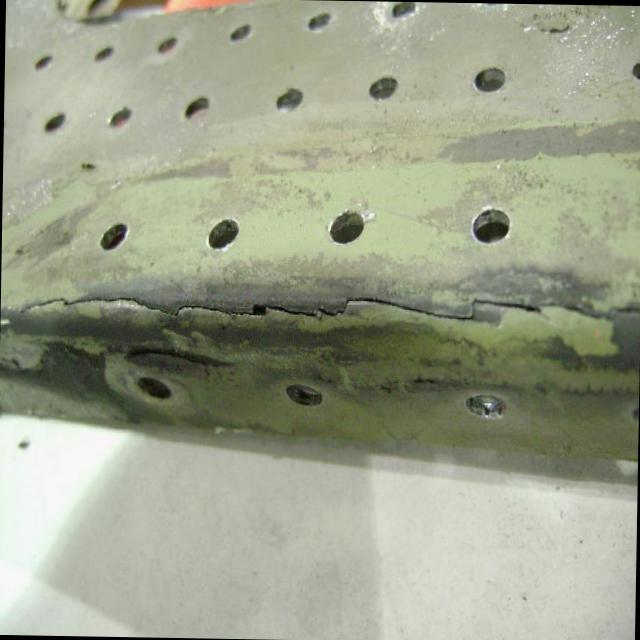Missing Fastener: (31, 0, 509, 163), (460, 183, 532, 259), (189, 199, 254, 262), (316, 192, 379, 252), (89, 196, 138, 258), (604, 46, 640, 88)
